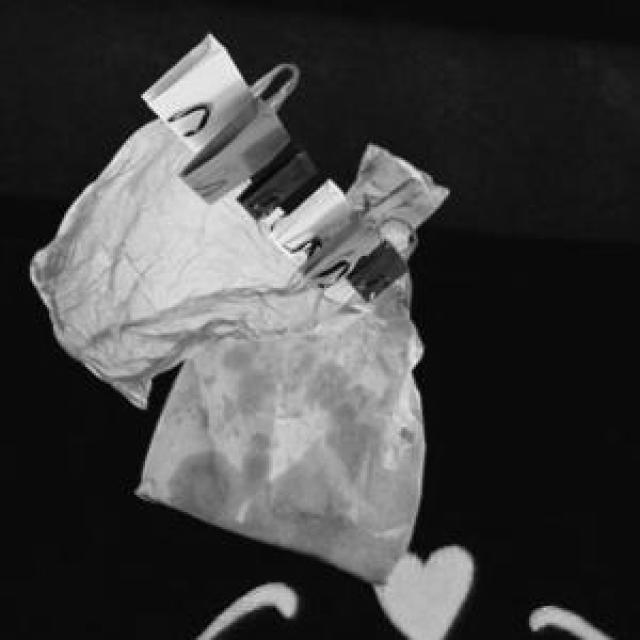paper: (132, 141, 444, 587), (139, 30, 405, 297)
